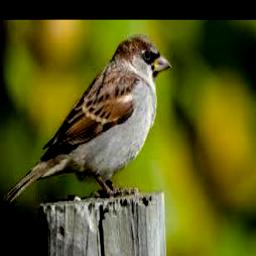Sparrow: (3, 34, 171, 202)
